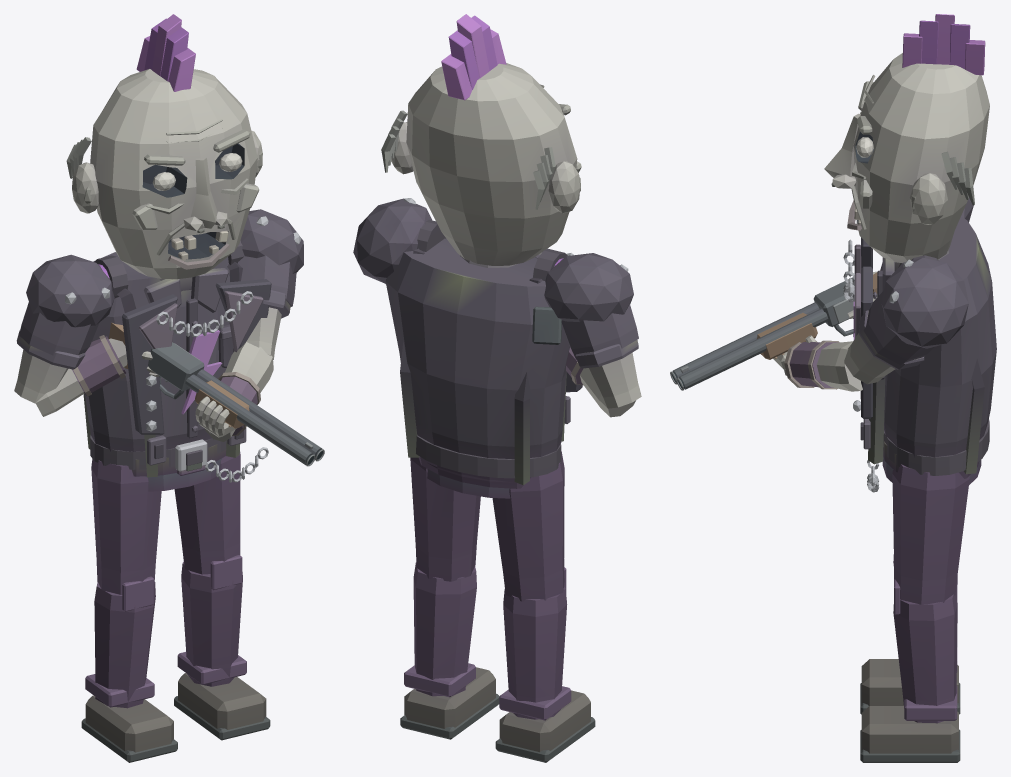
Rendered from GrandfatherPunk.glb.
3 renders of one model, left to right at view 1: azimuth 30°, elevation 25°; view 2: azimuth 150°, elevation 25°; view 3: azimuth 270°, elevation 25°, orthographic. The views are drawn at different scales.
Parts seen in each view (by area): view 1: Head, Body, LegR, LegL, ArmR, ArmL; view 2: Body, Head, LegR, LegL, ArmR, ArmL; view 3: Head, Body, LegL, ArmL, LegR.
Part boxes in pixels (box(x1,y1,x2,y2)): Head: box(66, 14, 262, 279); Body: box(83, 240, 324, 491); LegR: box(81, 459, 177, 762); LegL: box(174, 452, 270, 740); ArmR: box(14, 254, 159, 416); ArmL: box(195, 209, 303, 441); Body: box(385, 219, 582, 498); Head: box(381, 14, 581, 265); LegR: box(492, 451, 595, 762); LegL: box(400, 457, 499, 739); ArmR: box(544, 253, 641, 417); ArmL: box(353, 198, 431, 283); Head: box(824, 14, 989, 263); Body: box(670, 216, 996, 492); LegL: box(860, 464, 969, 762); ArmL: box(773, 257, 968, 391); LegR: box(860, 554, 960, 714).
Size of the model in its own units: 2.76 by 6.64 by 2.72.
